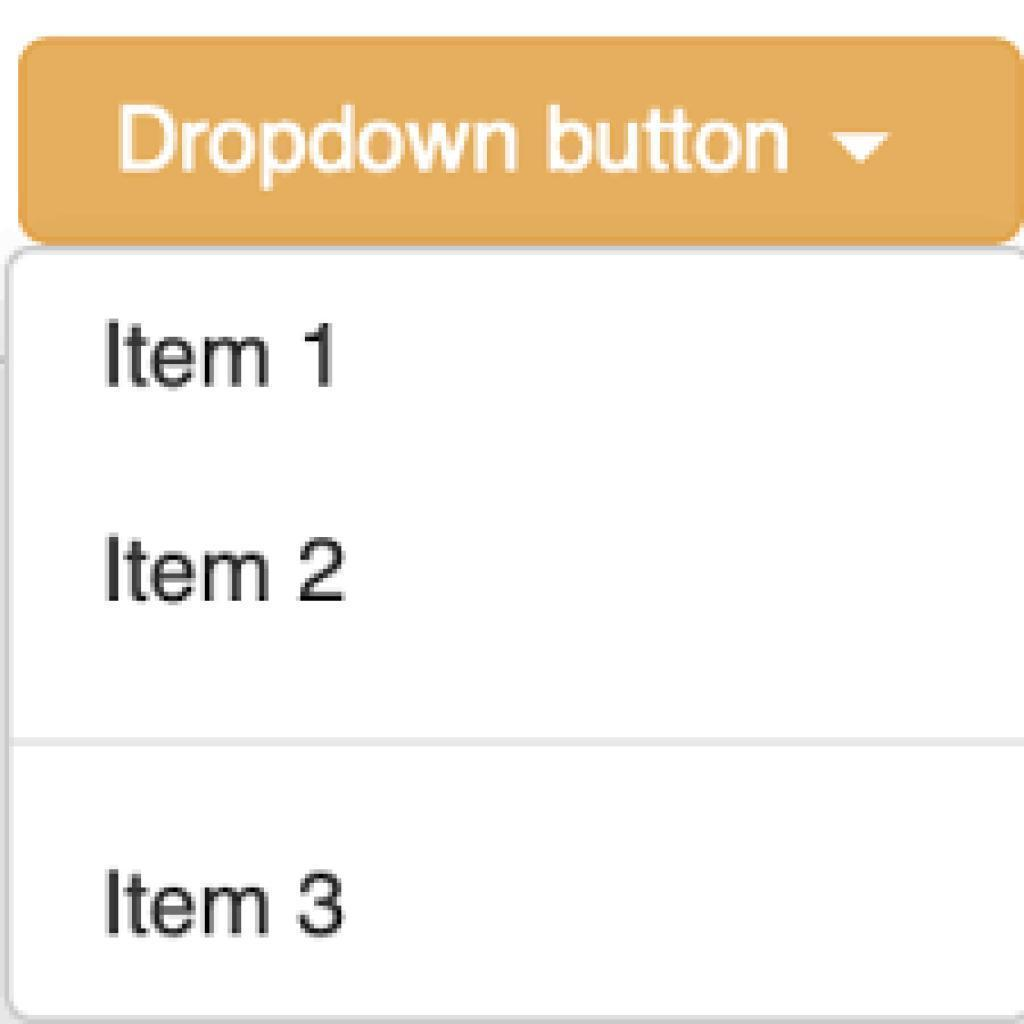dropdown: (17, 36, 1024, 244)
